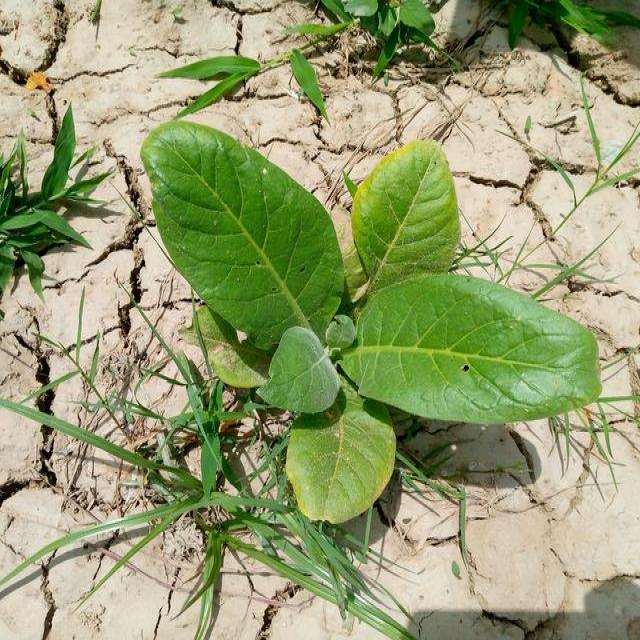crop: (142, 120, 596, 526)
